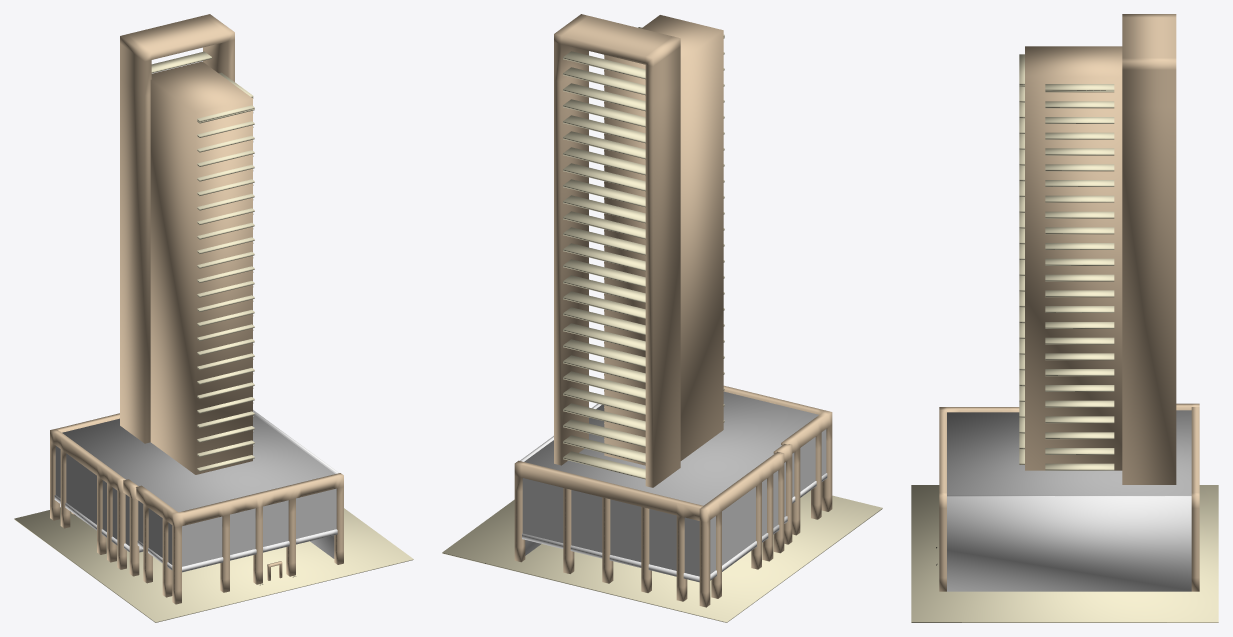
File: candidate-sample.glb
The picture shows the model from 3 angles, left to right: view 1: azimuth 30°, elevation 25°; view 2: azimuth 150°, elevation 25°; view 3: azimuth 270°, elevation 25°; orthographic projection. The views are drawn at different scales.
Visible parts, largest first — view 1: KUNING, wire_228214153, GREEY, PATTERN, GREY, FRAME; view 2: KUNING, wire_228214153, PATTERN, GREEY, GREY; view 3: KUNING, wire_228214153, FRAME, GREEY.
Boxes of the visible parts, x1=… form: KUNING: x1=50, y1=14, x2=343, y2=604; wire_228214153: x1=14, y1=51, x2=413, y2=622; GREEY: x1=62, y1=415, x2=334, y2=512; PATTERN: x1=55, y1=446, x2=336, y2=566; GREY: x1=54, y1=495, x2=337, y2=572; FRAME: x1=253, y1=410, x2=338, y2=558; KUNING: x1=514, y1=14, x2=832, y2=607; wire_228214153: x1=442, y1=27, x2=882, y2=622; PATTERN: x1=522, y1=429, x2=826, y2=576; GREEY: x1=524, y1=391, x2=818, y2=505; GREY: x1=522, y1=473, x2=827, y2=582; KUNING: x1=939, y1=14, x2=1199, y2=591; wire_228214153: x1=911, y1=54, x2=1218, y2=622; FRAME: x1=947, y1=495, x2=1191, y2=591; GREEY: x1=947, y1=410, x2=1191, y2=495.
Size of the model in its own units: 5844 by 10312 by 5543.
